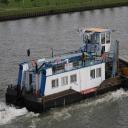tugboat: (4, 25, 123, 118)
